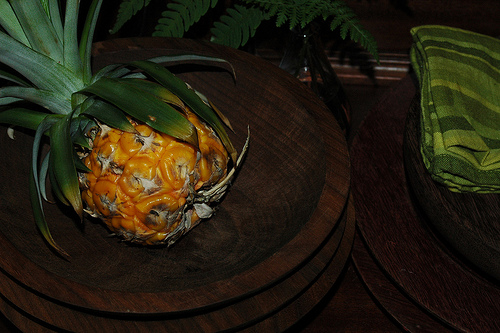pineapple: (3, 0, 235, 240)
